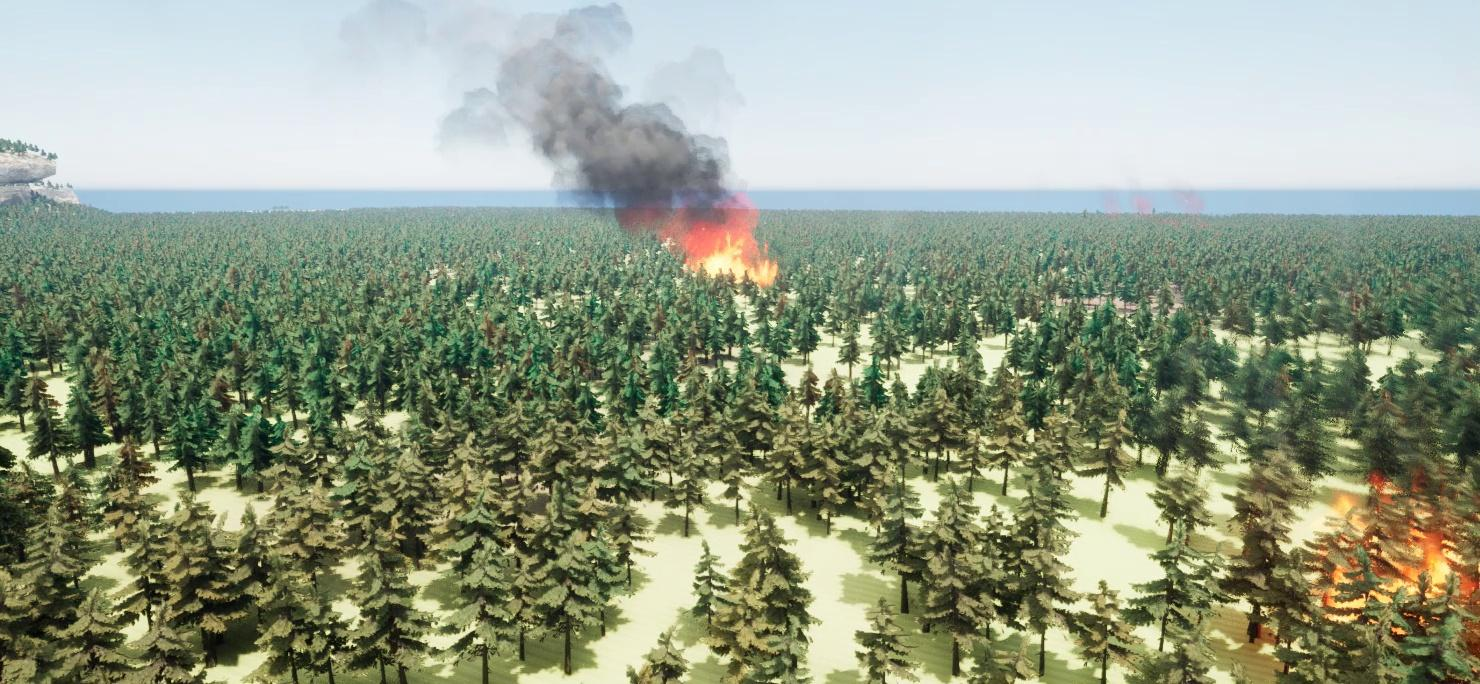fire: (1305, 472, 1479, 626), (697, 236, 789, 293)
smoke: (335, 0, 769, 251)
